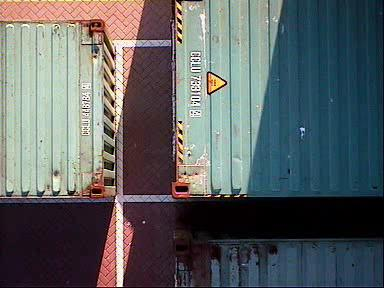groundmarker_2: (271, 46, 327, 76), (271, 99, 327, 129), (271, 242, 327, 272)
